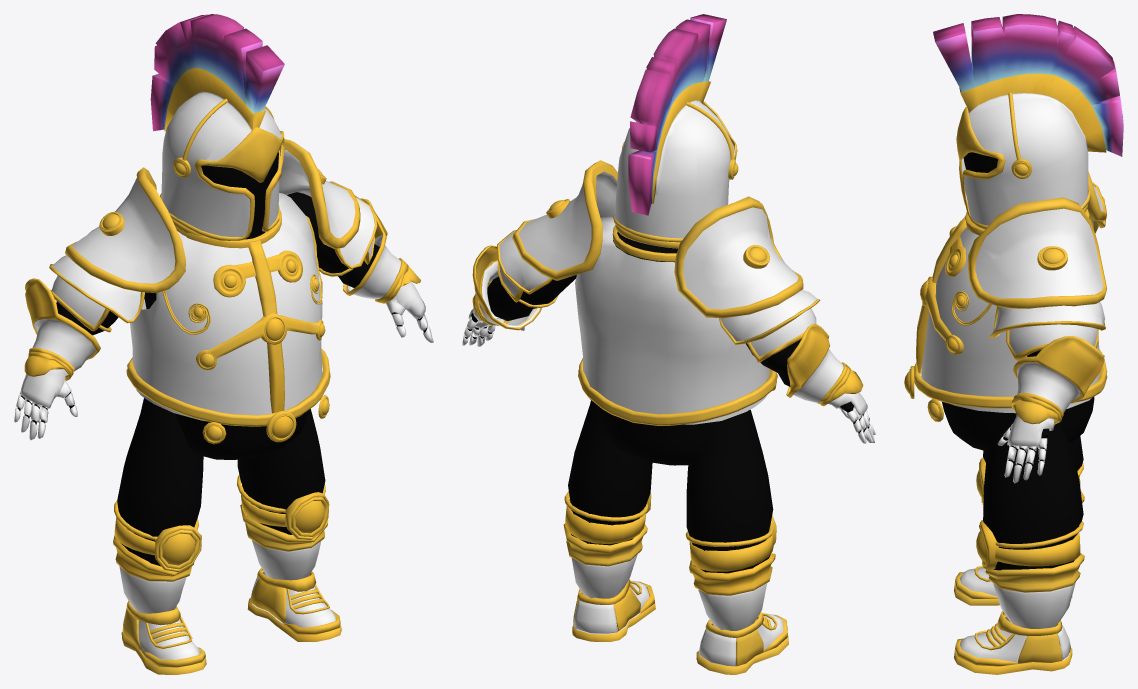
File: KreatonUV1-transformed.glb
The picture shows the model from 3 angles, left to right: view 1: azimuth 30°, elevation 25°; view 2: azimuth 150°, elevation 25°; view 3: azimuth 270°, elevation 25°; orthographic projection.
Parts seen in each view (by area): view 1: Arms.001, TorsoArmor.001, Helmet_UNATTACHED.001; view 2: Arms.001, TorsoArmor.001, Helmet_UNATTACHED.001; view 3: Arms.001, Helmet_UNATTACHED.001, TorsoArmor.001.
Part boxes in pixels (box(x1,y1,x2,y2)): Arms.001: box(14, 139, 433, 674); TorsoArmor.001: box(126, 192, 330, 459); Helmet_UNATTACHED.001: box(150, 14, 284, 240); Arms.001: box(462, 160, 875, 674); TorsoArmor.001: box(575, 217, 777, 465); Helmet_UNATTACHED.001: box(613, 14, 738, 248); Arms.001: box(954, 171, 1106, 674); Helmet_UNATTACHED.001: box(933, 14, 1123, 229); TorsoArmor.001: box(904, 209, 1107, 451).
Size of the model in its own units: 1.41 by 2.02 by 0.6604.
4 materials, 3 textured.
